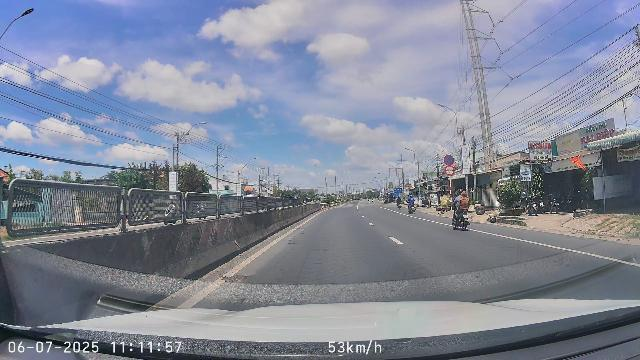125-cam-vuot: (445, 166, 455, 176)
130-cam-dung-va-do-xe: (444, 155, 454, 165)
